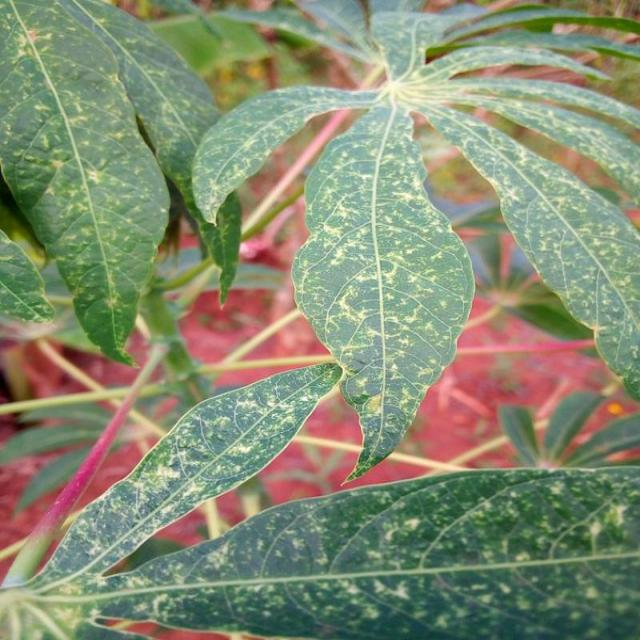cassava leaf: (0, 1, 638, 635), (24, 358, 342, 591), (289, 100, 475, 484), (0, 0, 172, 368)
